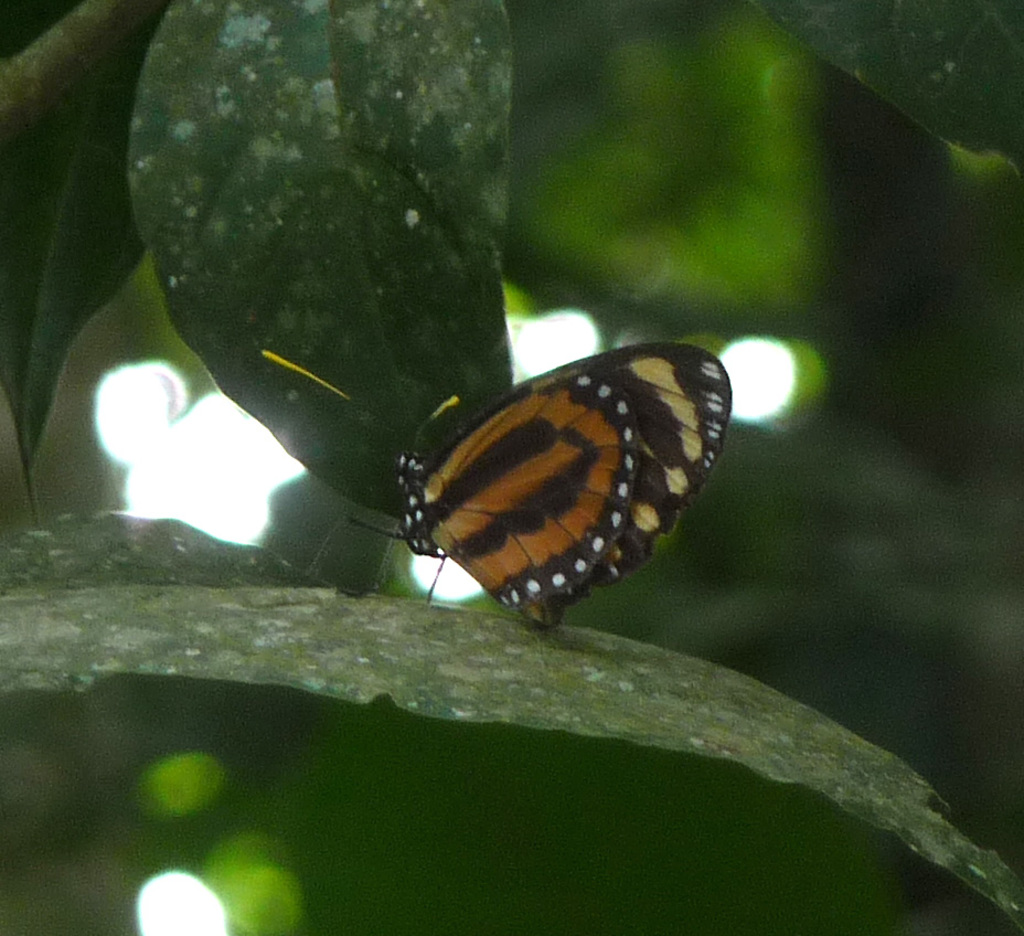Butterfly: (267, 301, 767, 650)
